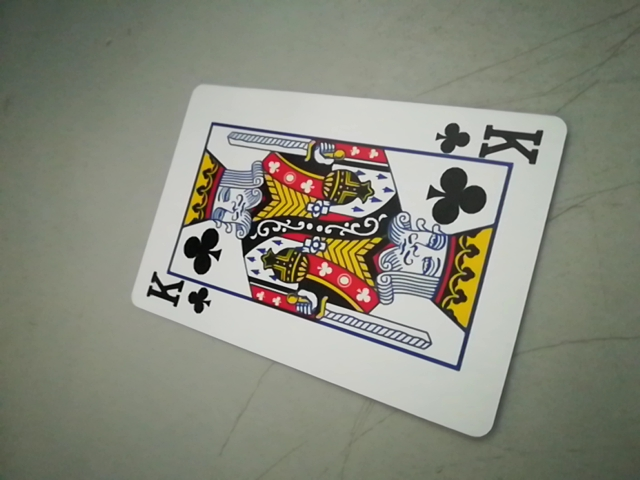mh k: (430, 117, 550, 165), (141, 278, 217, 317)
